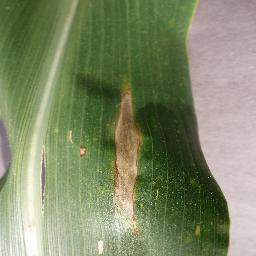Corn_Blight: (103, 80, 151, 244), (38, 143, 51, 223), (63, 126, 93, 157), (189, 219, 211, 240)
